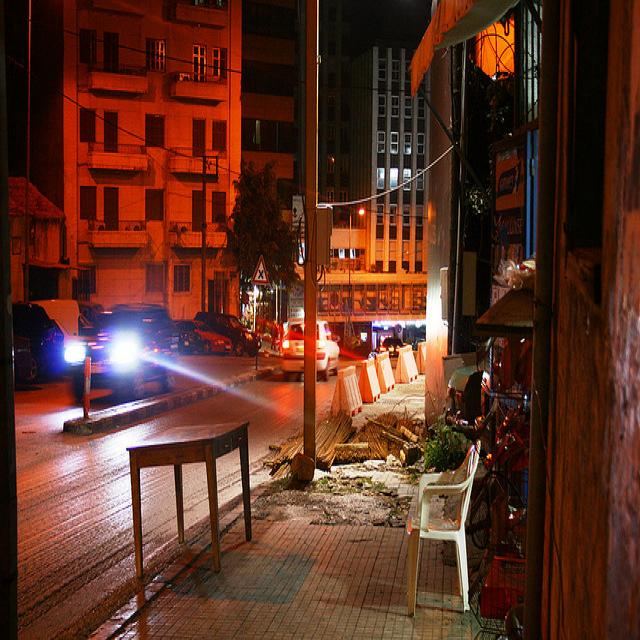Table: (126, 387, 262, 615)
car: (51, 298, 187, 416), (281, 310, 339, 376)
chair: (394, 424, 494, 634)
